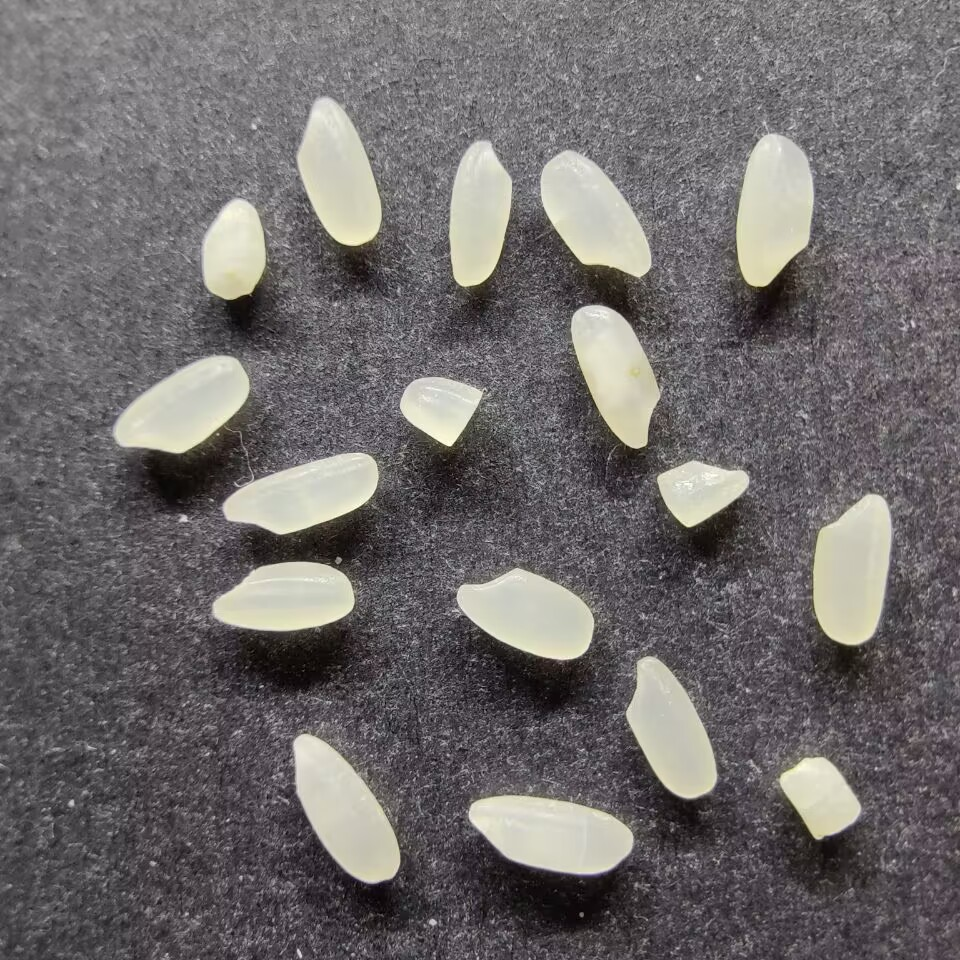broken: (779, 756, 861, 840), (655, 459, 749, 528), (201, 199, 265, 299), (399, 376, 482, 447)
rice: (291, 732, 399, 884), (539, 150, 652, 278), (625, 655, 718, 799), (114, 355, 249, 454), (467, 795, 633, 875), (570, 304, 661, 449), (222, 452, 378, 535), (456, 567, 594, 660), (296, 97, 381, 246), (812, 492, 892, 646), (735, 134, 813, 287), (211, 561, 354, 631), (448, 140, 512, 288)
